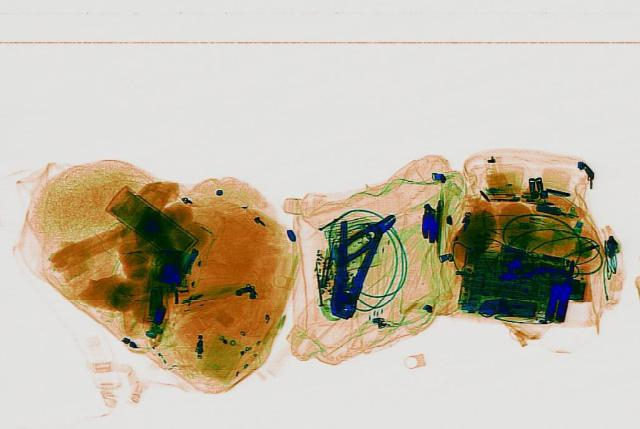Pliers: (316, 218, 382, 318), (318, 210, 402, 267)
